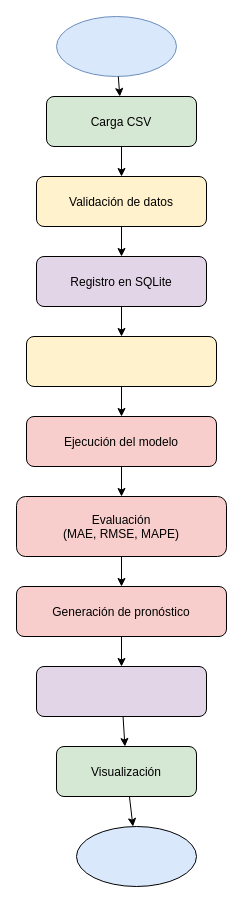
Image size: 243x903. Some labels were removed from this diagram. The shapes that lost their labels are listed below. From the top down, each one's box as (x1, y1, x2, y2) in pixels, then its label:
(56, 16, 176, 76): Inicio
(26, 336, 216, 386): Preparación de datos
(36, 666, 206, 716): Guardar resultados
(76, 826, 196, 886): Fin
